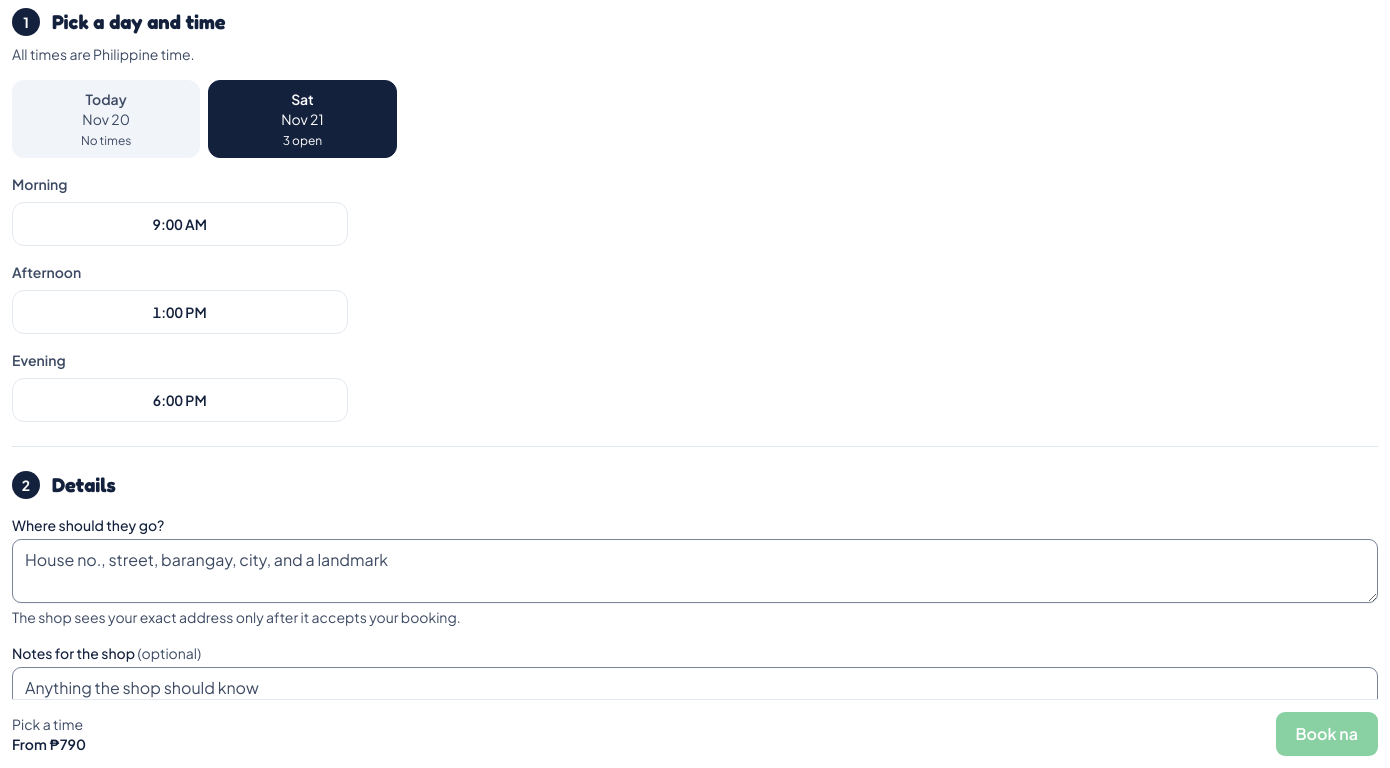
it: BookingFlow › asks home bookings for an address before sending
Click the button "9:00 AM" at {"x": 180, "y": 224}, box [12, 202, 348, 246]
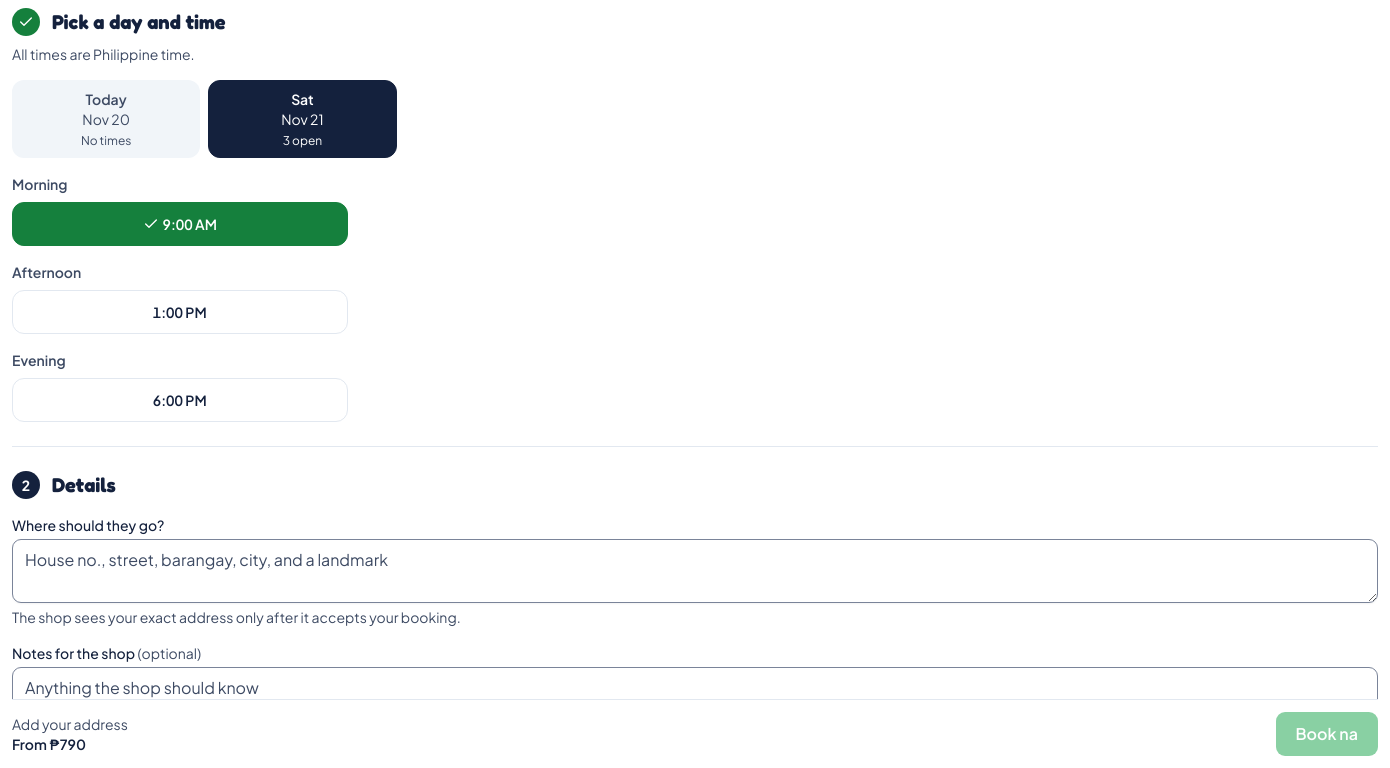
expect the button "Book na" is disabled: met, box [1276, 712, 1378, 756]
expect the text "Add your address" is shown: met, box [12, 715, 128, 733]
Type "12 Mabini St., Concepcion Uno, Marikina" into the text box labelled "Where should they go?" at {"x": 695, "y": 571}, box [12, 539, 1378, 603]
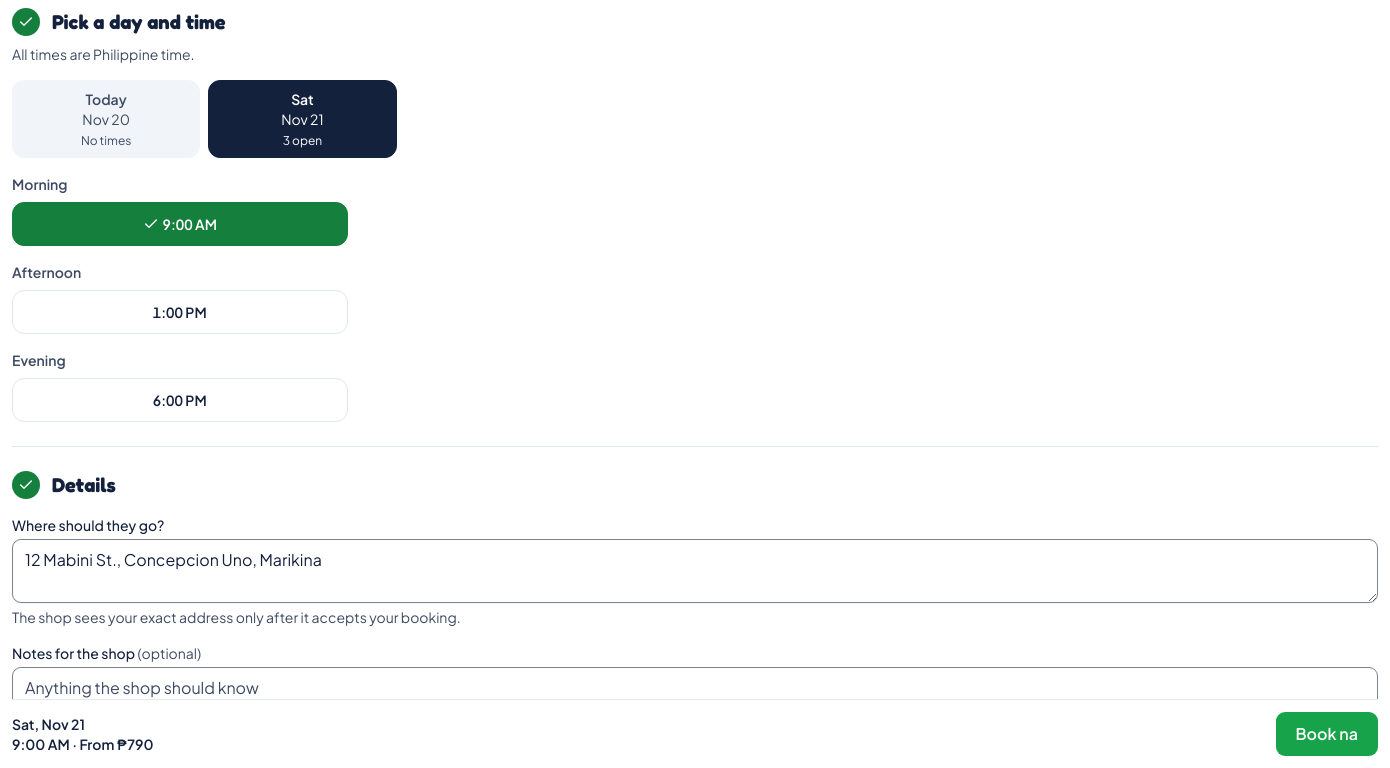
expect the button "Book na" is enabled: met, box [1276, 712, 1378, 756]
